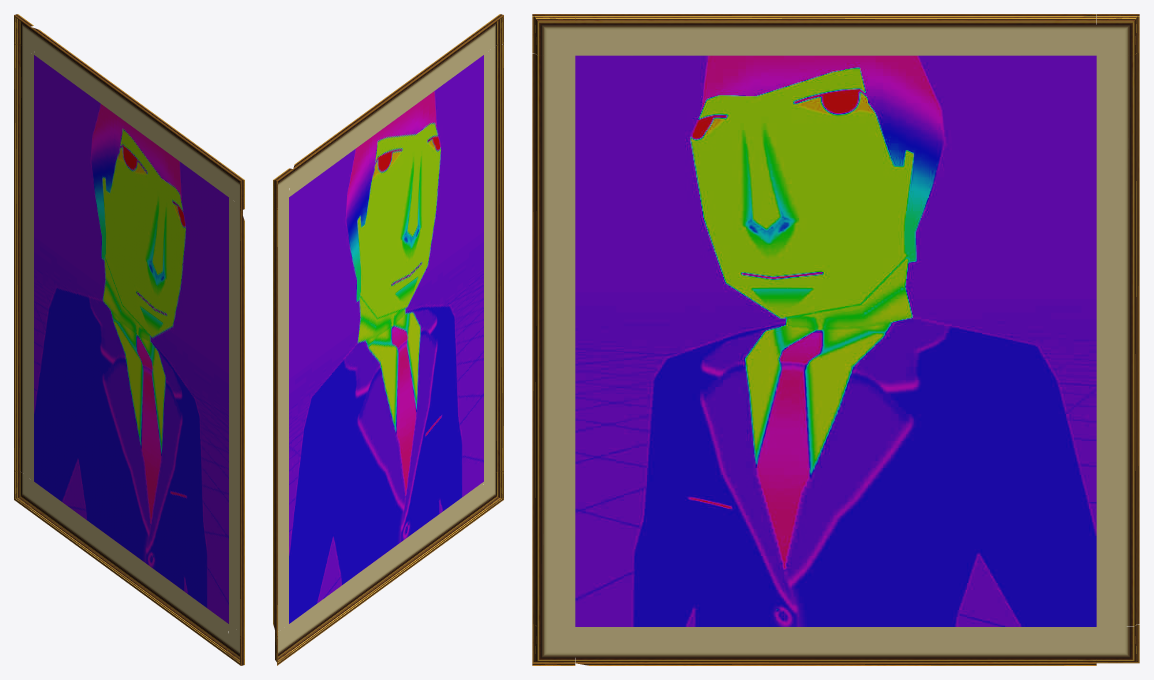
Rendered from Canvas_fix_006.fbx.
3 renders of one model, left to right at view 1: azimuth 30°, elevation 25°; view 2: azimuth 150°, elevation 25°; view 3: azimuth 270°, elevation 25°, orthographic. The views are drawn at different scales.
Visible parts, largest first — view 1: BlueChip_Interior.072; view 2: BlueChip_Interior.072; view 3: BlueChip_Interior.072.
Part boxes in pixels (<box>): BlueChip_Interior.072: <box>14,14,244,665</box>; BlueChip_Interior.072: <box>273,14,503,665</box>; BlueChip_Interior.072: <box>532,14,1139,665</box>.
Size of the model in its own units: 1.59 by 183 by 155.
